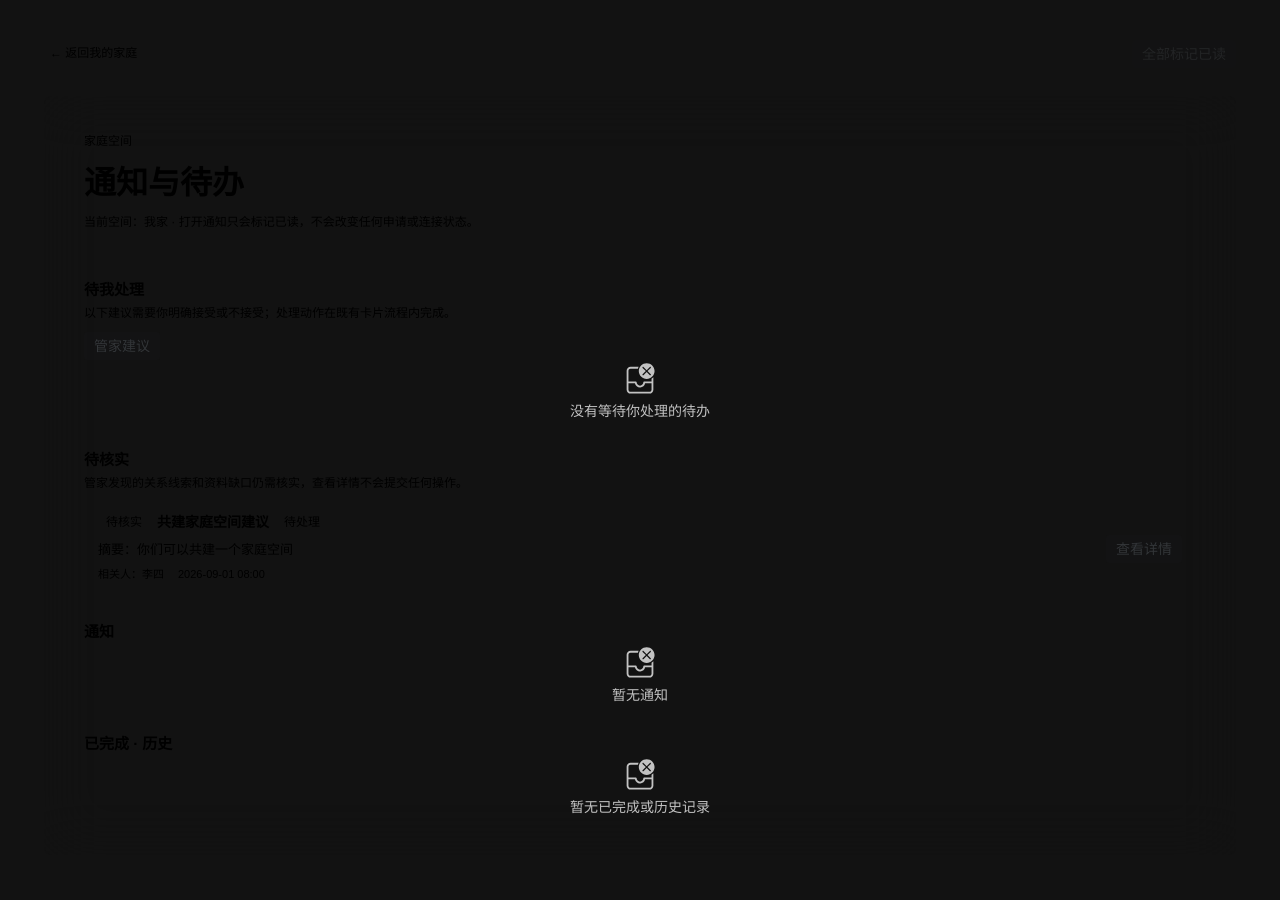
it: NotificationsView（PRD §2.6：三分区 + 已读与 ActionCard 严格分离） › 提交后展示真实提案状态 confirmed 与实际待确认人数
The width and height of the screenshot is (1280, 900).
Click the button with test id "open-details": (1144, 548) [1106,534,1182,562]
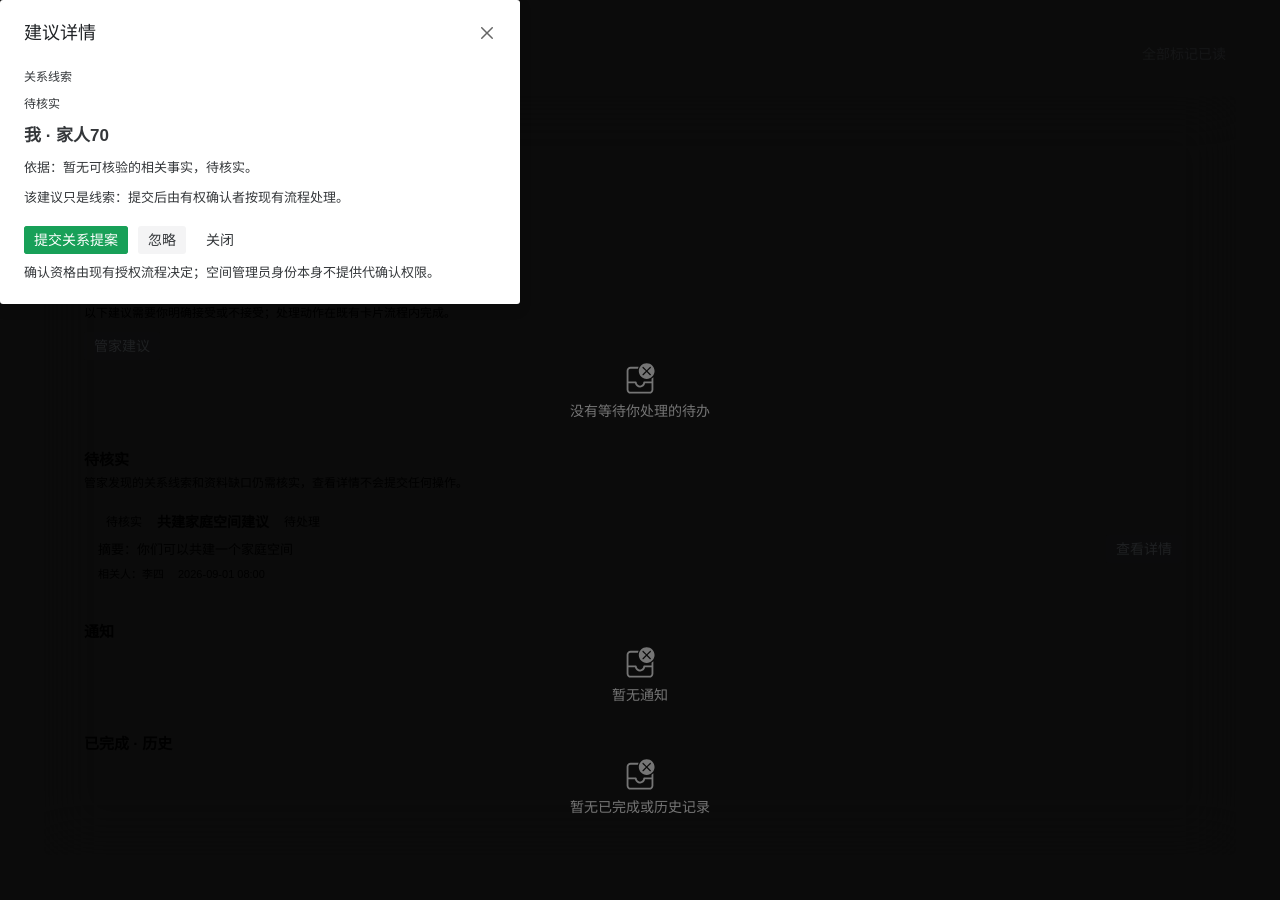
Expected: the button with test id "suggestion-submit" is shown
Click the button with test id "suggestion-submit": (76, 240) [24,226,128,254]
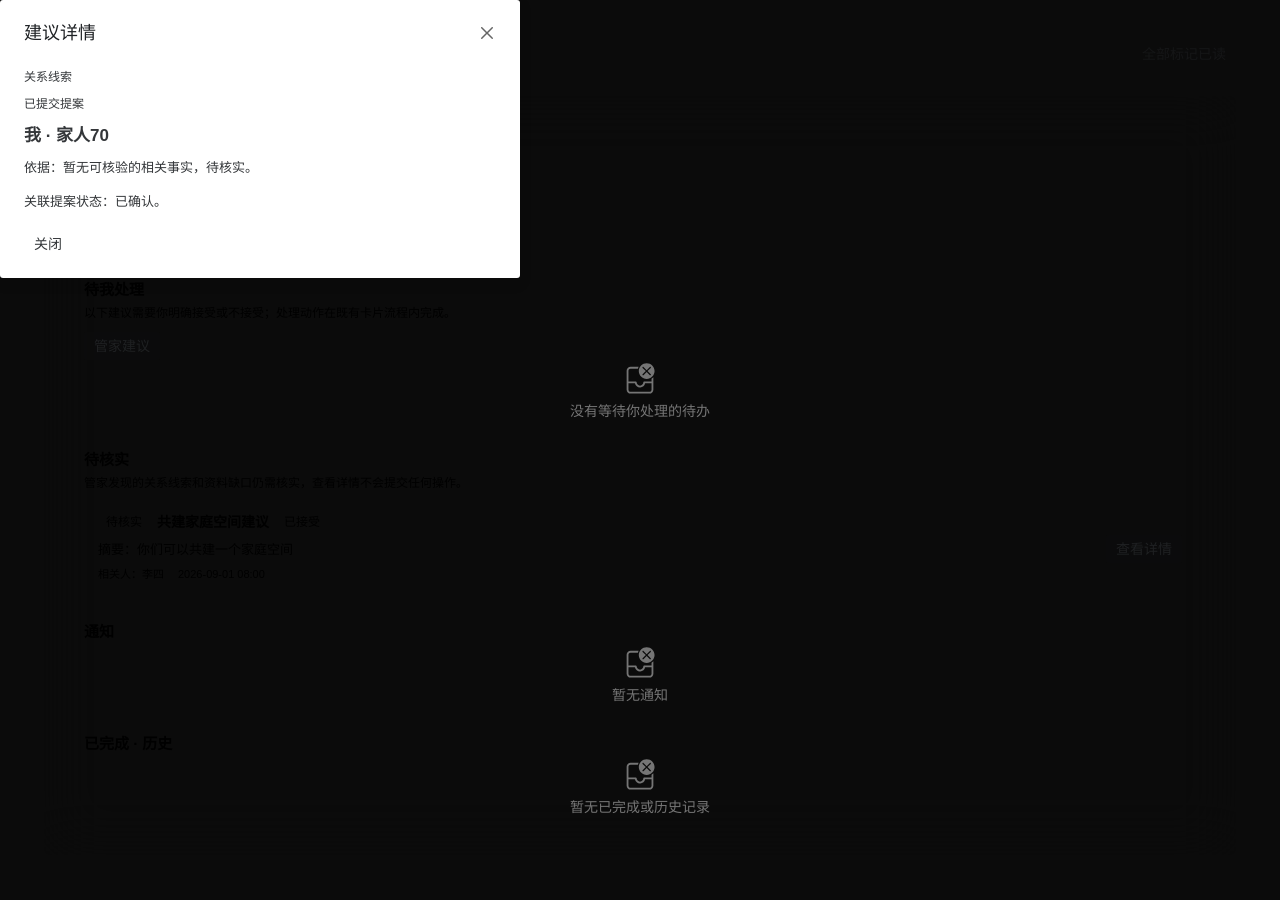
Expected: the text with test id "suggestion-proposal-state" shows "关联提案状态：已确认", [24,194,167,210]
Expected: the button with test id "suggestion-submit" is gone
Expected: the button with test id "suggestion-dismiss" is gone
